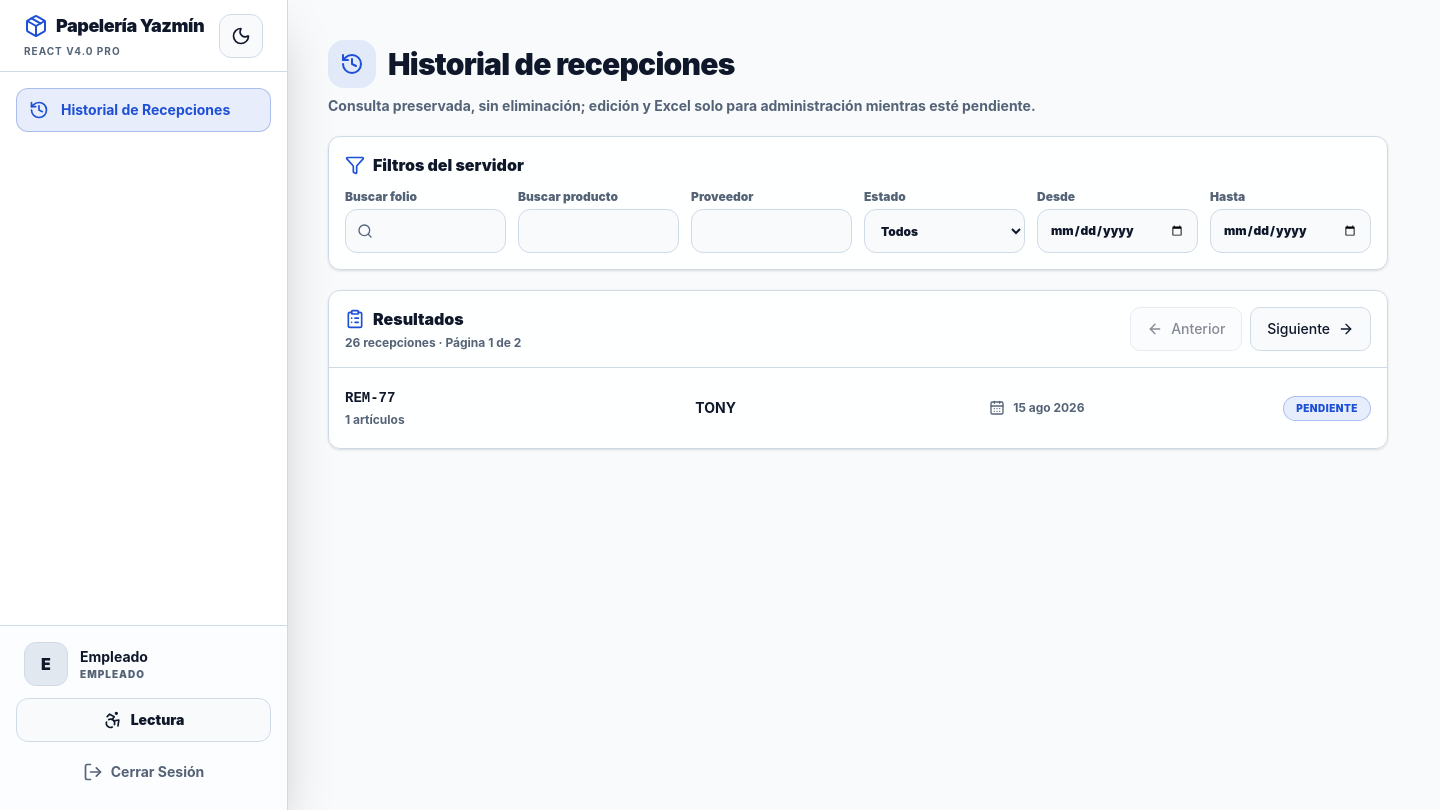
Test: identifies Paola automatic discounts as a provider rule in the receipt detail
This screenshot has width=1440, height=810.
Click the button with aria-label "abrir REM-77".
click(370, 398)  # box [329,368,1387,448]
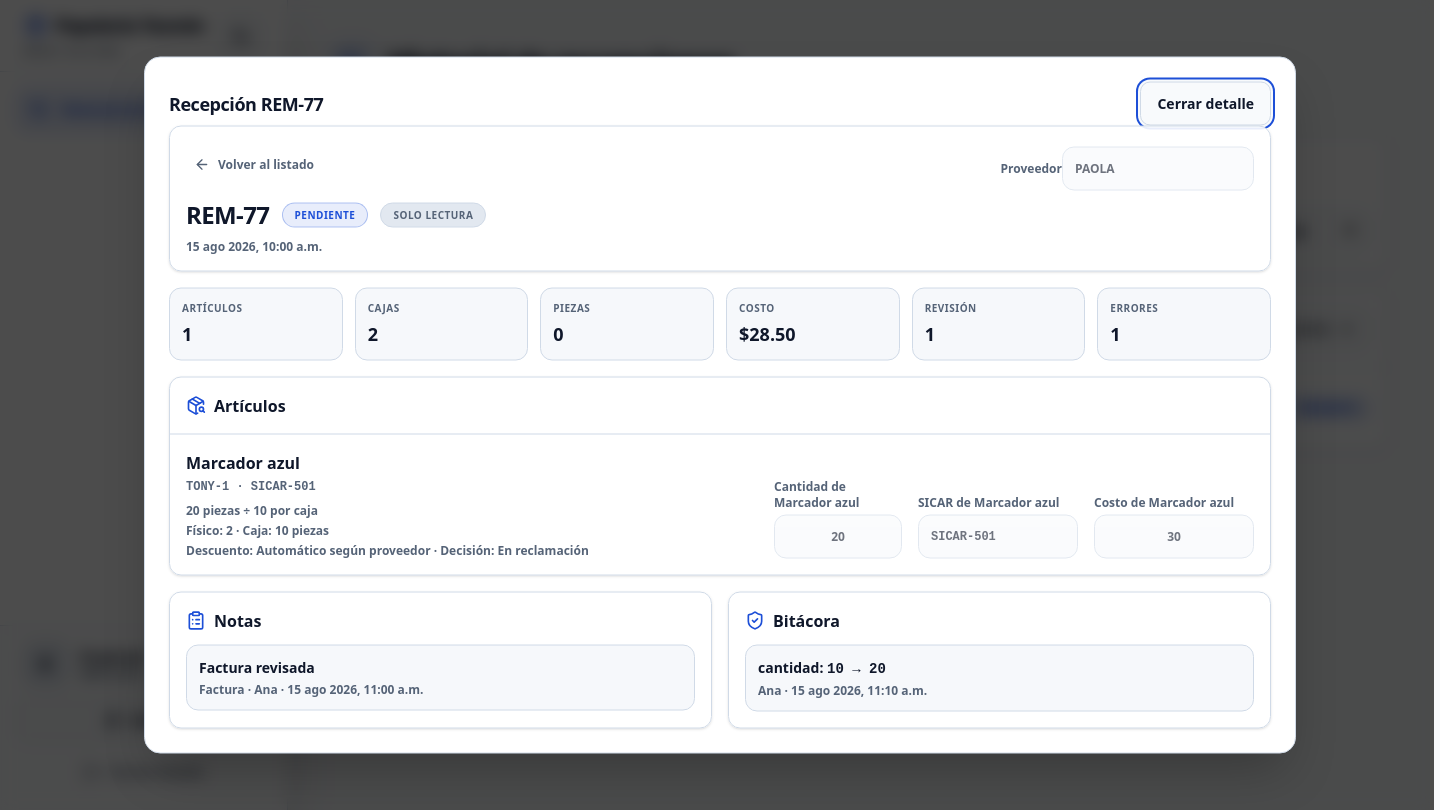
Check: the text "Descuento: Automático según proveedor" is shown, box [186,542,589,558]
